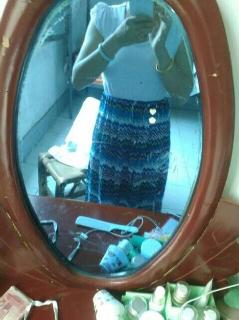vest: (84, 1, 189, 217)
